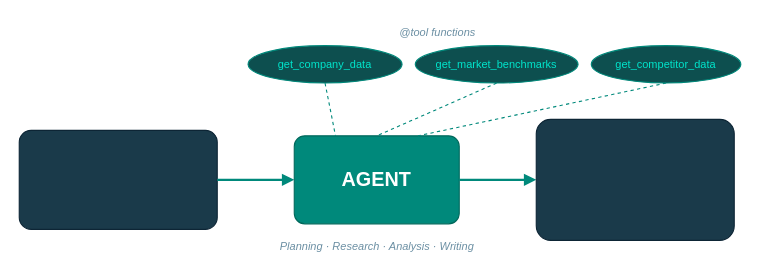
This 760x273 diagram has some shape labels left out. The centre of each missing label's shape, as x and y in pixels:
"Decision Brief MarketNest Premium Tier Target: +15% CLV" belongs at pixel 117 179.
"Decision Memo Recommendation Options A / B / C Risks · Metrics" belongs at pixel 634 179.
